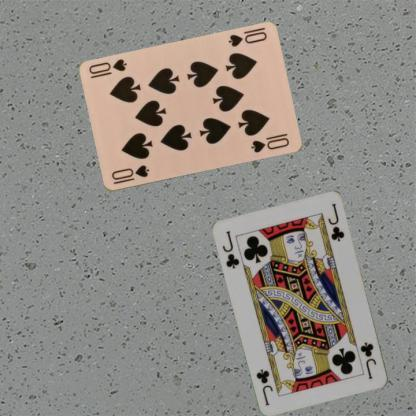10s: (108, 162, 150, 186), (225, 29, 268, 48)
Jc: (220, 228, 241, 271), (358, 340, 378, 382)
